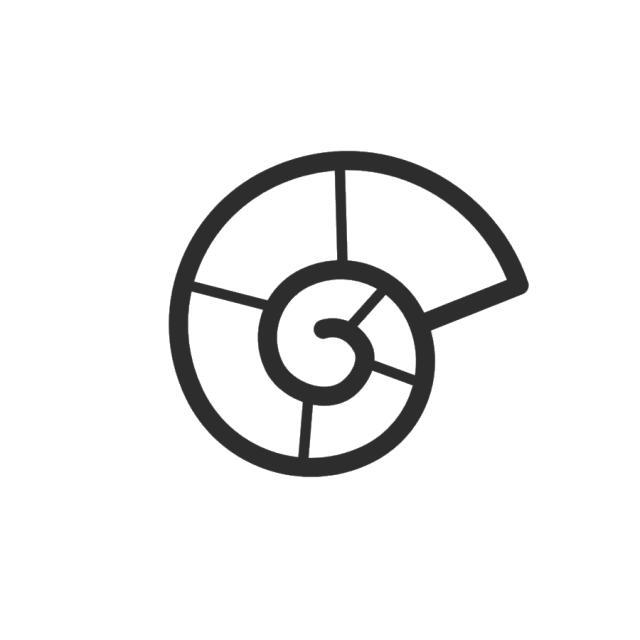fossil: (162, 146, 536, 488)
